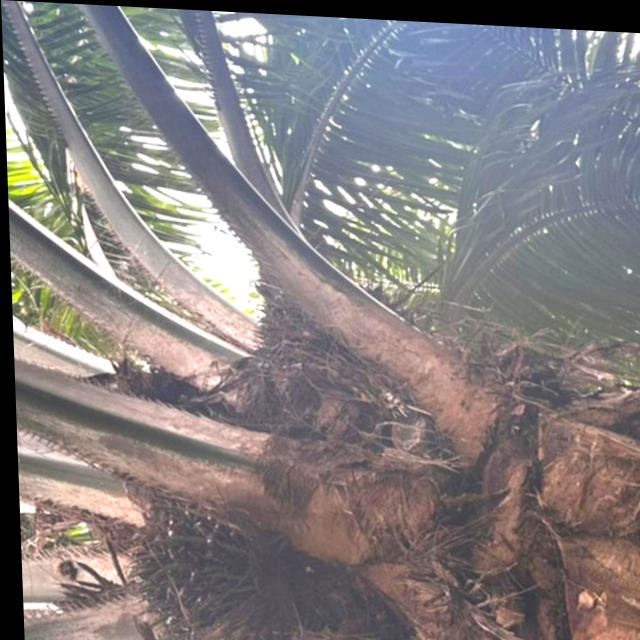unripe: (114, 479, 297, 640)
